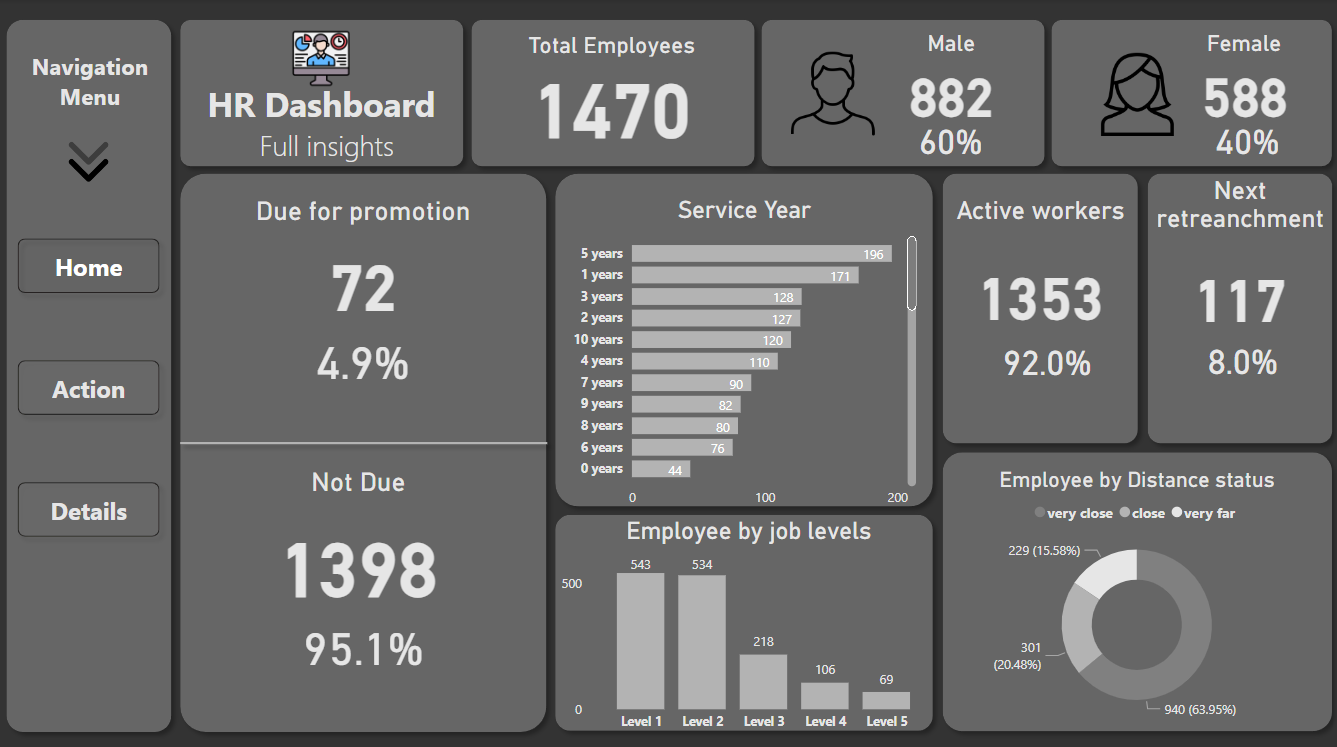

This screenshot's page, from the dashboard's own definition file:
{"tool":"powerbi","page":{"name":"Home","canvas":[1280,720],"ordinal":0},"visuals":[{"type":"shape","box":[0,10.7,174.9,696.2],"z":0},{"type":"shape","box":[165,11.2,287.5,157.5],"z":1000},{"type":"shape","box":[442.5,11.2,287.5,157.5],"z":2000},{"type":"shape","box":[718.8,11.2,287.5,157.5],"z":3000},{"type":"shape","box":[995,11.2,285,157.5],"z":4000},{"type":"shape","box":[165.4,157.1,366.5,549.8],"z":5000},{"type":"shape","box":[522.5,157.5,377.5,335],"z":6000},{"type":"shape","box":[522.5,482.5,377.5,223.8],"z":7000},{"type":"shape","box":[891.2,157.5,203.8,275],"z":8000},{"type":"shape","box":[1086.2,157.5,193.8,275],"z":9000},{"type":"shape","box":[891.2,422.5,388.8,283.8],"z":10000},{"type":"textbox","box":[126.2,31.2,338.8,137.5],"z":11000},{"type":"image","box":[253.8,22.5,110,67.5],"z":12000},{"type":"cardVisual","title":"Total Employees","fields":{"Data":["All_Measure.Total_EMP"]},"box":[452.5,31.2,266.2,126.2],"z":13000},{"type":"cardVisual","title":"Male","fields":{"Data":["All_Measure.Male"]},"box":[810,30,196.2,93.8],"z":14000},{"type":"cardVisual","fields":{"Data":["All_Measure.% Male"]},"box":[850,100,116.2,57.5],"z":15000},{"type":"image","box":[745,43.8,101.2,92.5],"z":16000},{"type":"cardVisual","title":"Female","fields":{"Data":["All_Measure.Female"]},"box":[1095,30,185,93.8],"z":17000},{"type":"cardVisual","fields":{"Data":["All_Measure.% Female"]},"box":[1119.9,100,141.6,57.1],"z":18000},{"type":"image","box":[1041.2,43.8,88.8,93.8],"z":19000},{"type":"cardVisual","title":"Due for promotion","fields":{"Data":["All_Measure.Due for promotion"]},"box":[175,186.2,347.5,151.2],"z":20000},{"type":"cardVisual","fields":{"Data":["All_Measure.% Due for promotion"]},"box":[175,295,347.5,102.5],"z":21000},{"type":"cardVisual","title":"Not Due","fields":{"Data":["All_Measure.Not Due"]},"box":[165,445,357.5,173.8],"z":22000},{"type":"cardVisual","fields":{"Data":["All_Measure.% Not Due"]},"box":[198.8,566.2,300,103.8],"z":23000},{"type":"shape","box":[165,391.2,367.5,62.5],"z":24000},{"type":"barChart","title":"Service Year","fields":{"Y":["All_Measure.Total_EMP"],"Category":["HR Analytics Data.Service year"]},"box":[542.5,186.2,337.5,306.2],"z":25000},{"type":"columnChart","title":"Employee by job levels","fields":{"Category":["HR Analytics Data.Job Levels"],"Y":["All_Measure.Total_EMP"]},"box":[532.5,492.5,367.5,213.8],"z":26000},{"type":"cardVisual","title":"Active workers","fields":{"Data":["All_Measure.Active workers"]},"box":[885,186.2,216.2,175],"z":27000},{"type":"cardVisual","fields":{"Data":["All_Measure.% Active workers"]},"box":[850,277.5,300,137.5],"z":28000},{"type":"cardVisual","title":"Next retreanchment","fields":{"Data":["All_Measure.Will be retreanched"]},"box":[1096.1,167.8,174.9,189.2],"z":29000},{"type":"cardVisual","fields":{"Data":["All_Measure.% Will be retreanched"]},"box":[1102,309.4,169,72.6],"z":30000},{"type":"donutChart","title":"Employee by Distance status","fields":{"Category":["HR Analytics Data.Distance status"],"Y":["All_Measure.Total_EMP"]},"box":[899.7,445.1,371.3,248.7],"z":31000},{"type":"pageNavigator","box":[10.7,219,153.5,304.7],"z":32000},{"type":"textbox","box":[11.9,44,153.5,142.8],"z":32001},{"type":"image","box":[50,115.4,75,78.5],"z":32002}]}

Visuals, with their boxes in screenshot pixels (x1, y1, x2, y2), scaled from the page's 1280x720 canvas onto the 1337x747 screenshot:
shape: [0, 11, 183, 733]
shape: [172, 12, 473, 175]
shape: [462, 12, 763, 175]
shape: [751, 12, 1051, 175]
shape: [1039, 12, 1336, 175]
shape: [173, 163, 556, 733]
shape: [546, 163, 940, 511]
shape: [546, 501, 940, 733]
shape: [931, 163, 1144, 449]
shape: [1135, 163, 1336, 449]
shape: [931, 438, 1336, 733]
textbox: [132, 32, 486, 175]
image: [265, 23, 380, 93]
"Total Employees" cardVisual: [473, 32, 751, 163]
"Male" cardVisual: [846, 31, 1051, 128]
cardVisual - All_Measure.% Male: [888, 104, 1009, 163]
image: [778, 45, 884, 141]
"Female" cardVisual: [1144, 31, 1336, 128]
cardVisual - All_Measure.% Female: [1170, 104, 1318, 163]
image: [1088, 45, 1180, 143]
"Due for promotion" cardVisual: [183, 193, 546, 350]
cardVisual - All_Measure.% Due for promotion: [183, 306, 546, 412]
"Not Due" cardVisual: [172, 462, 546, 642]
cardVisual - All_Measure.% Not Due: [208, 587, 521, 695]
shape: [172, 406, 556, 471]
"Service Year" barChart: [567, 193, 919, 511]
"Employee by job levels" columnChart: [556, 511, 940, 733]
"Active workers" cardVisual: [924, 193, 1150, 375]
cardVisual - All_Measure.% Active workers: [888, 288, 1201, 431]
"Next retreanchment" cardVisual: [1145, 174, 1328, 370]
cardVisual - All_Measure.% Will be retreanched: [1151, 321, 1328, 396]
"Employee by Distance status" donutChart: [940, 462, 1328, 720]
pageNavigator: [11, 227, 172, 543]
textbox: [12, 46, 173, 194]
image: [52, 120, 131, 201]
